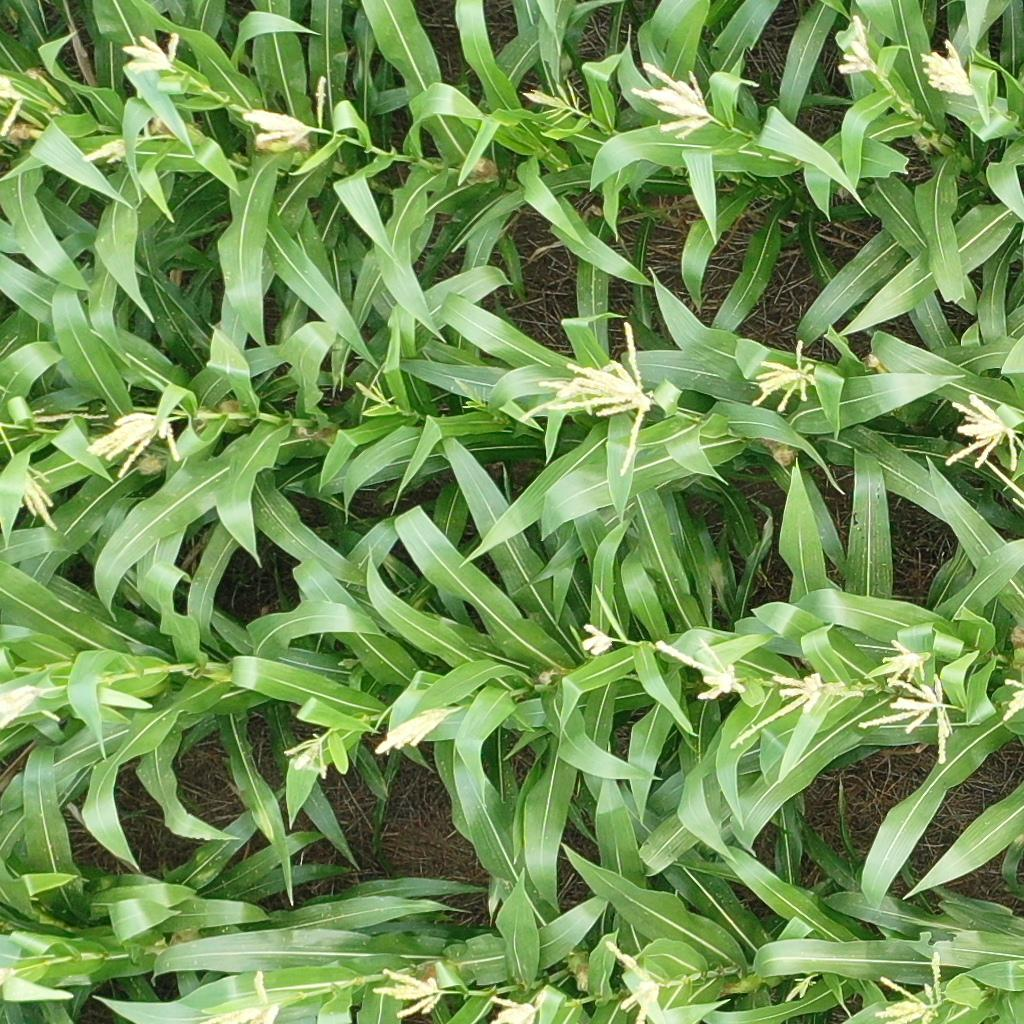Tassel: (512, 318, 656, 477), (729, 664, 865, 751), (861, 679, 966, 763), (932, 388, 1023, 471), (84, 411, 187, 482), (627, 56, 716, 138), (745, 339, 832, 421), (241, 75, 331, 154), (873, 950, 969, 1024), (650, 636, 752, 701), (196, 971, 293, 1024), (374, 703, 467, 754), (606, 944, 663, 1024), (915, 37, 984, 101), (366, 968, 445, 1018), (118, 28, 187, 79), (521, 77, 587, 130), (18, 462, 62, 532), (837, 12, 880, 78), (284, 728, 334, 778), (873, 640, 928, 684), (1, 681, 47, 730), (1, 76, 32, 134), (490, 994, 543, 1024), (82, 137, 139, 164), (353, 379, 398, 413), (580, 623, 618, 658), (452, 376, 486, 408), (999, 679, 1024, 722), (785, 974, 821, 1002)
